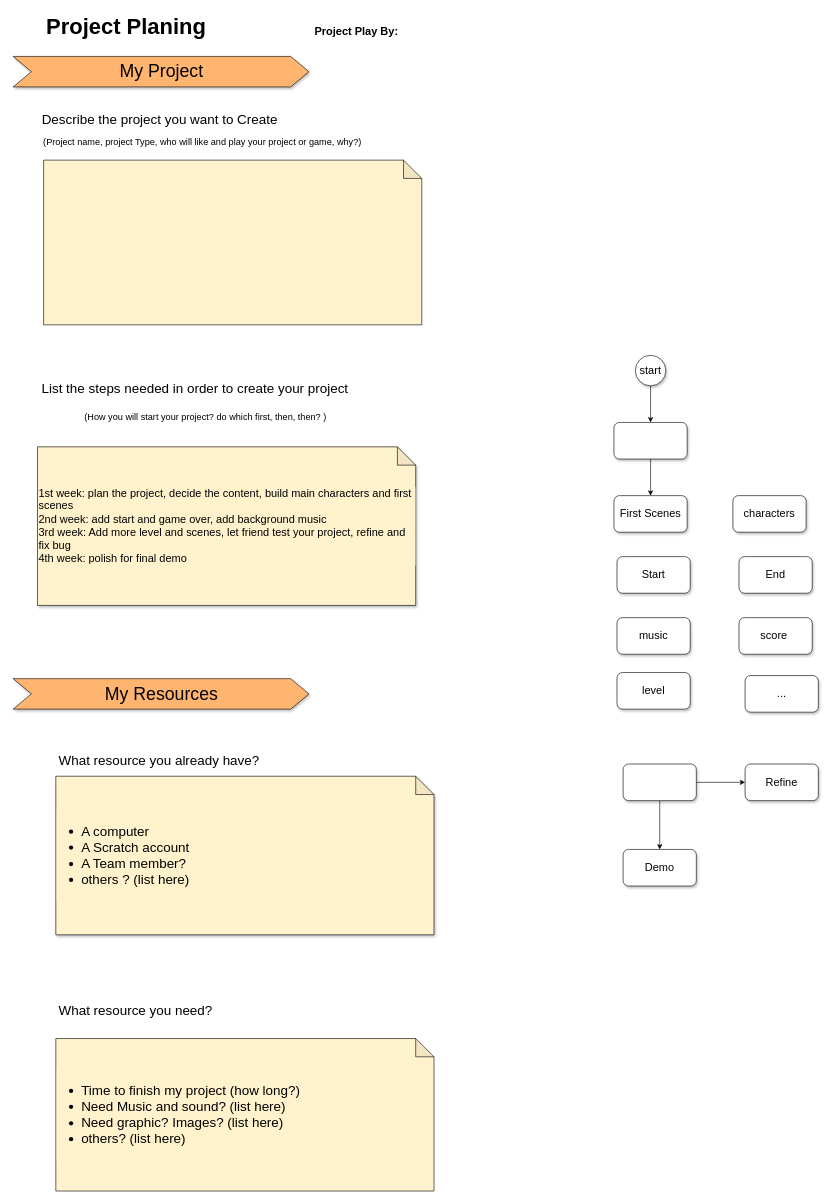
Some shapes in this 833 by 1202 pixel diagram are drawn without their labels. Each missing label, with the centre of its shape:
"Plan" belongs at point (651, 441).
"Testing" belongs at point (660, 783).
